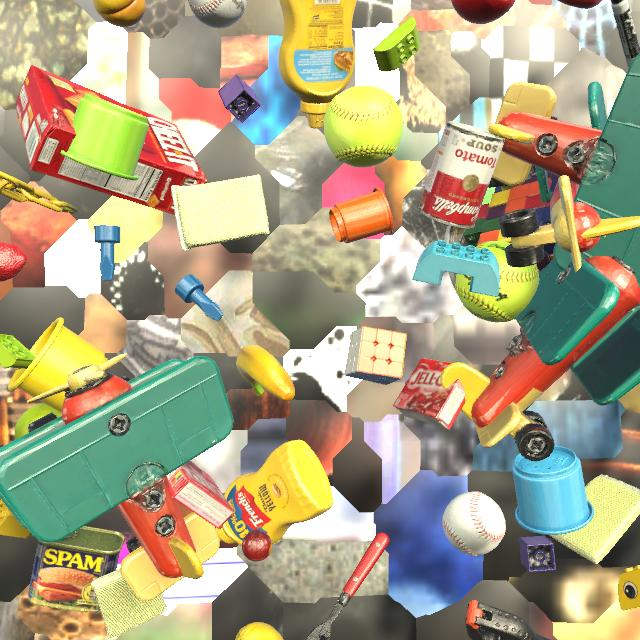ycb_003_cracker_box: (15, 65, 207, 215)
ycb_005_tomato_soup_can: (418, 121, 505, 229)
ycb_006_mustard_bottle: (215, 440, 333, 546), (278, 0, 357, 128)
ycb_009_gelatin_box: (393, 358, 466, 430), (167, 461, 235, 530)
ycb_010_potted_meat_can: (28, 526, 125, 612)
ycb_011_banana: (236, 345, 295, 401)
ycb_012_strawberry: (0, 242, 27, 282)
ycb_013_apple: (451, 0, 516, 24), (558, 0, 602, 9)
ycb_014_lemon: (235, 622, 283, 640)
ycb_015_peach: (93, 0, 146, 27)
ycb_016_pear: (14, 403, 62, 440)
